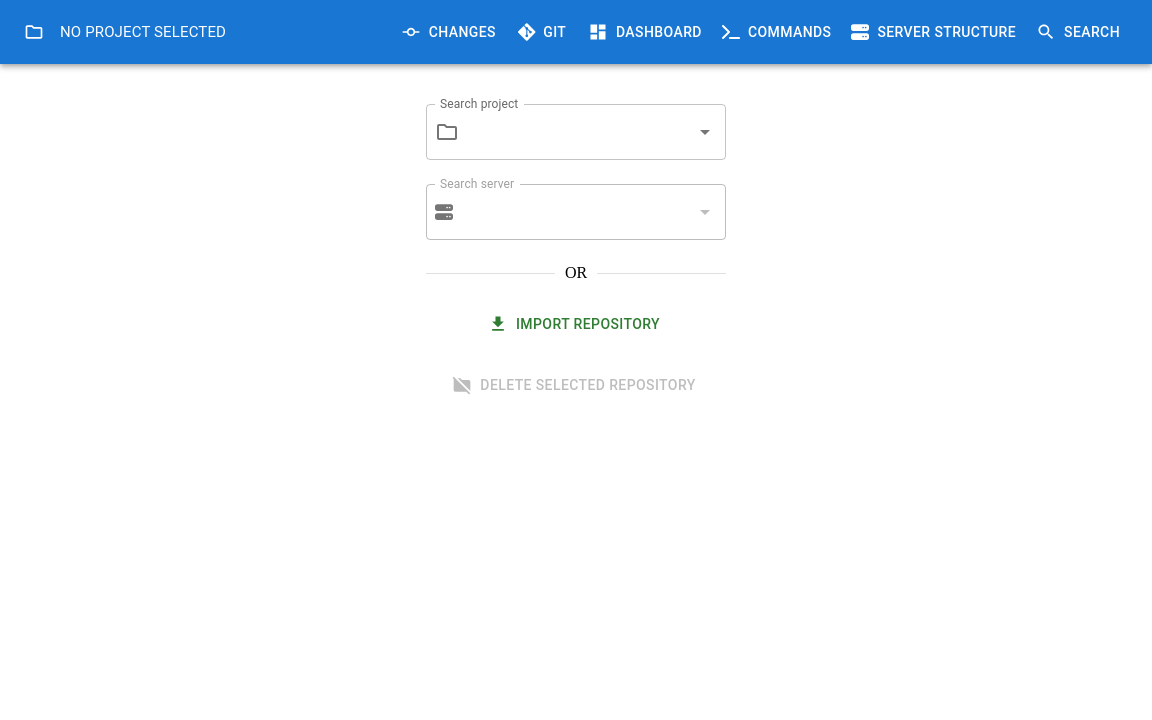
Home page › opens import repository modal
Click the button "Import repository". click: click(576, 325)
box: [426,306,726,343]
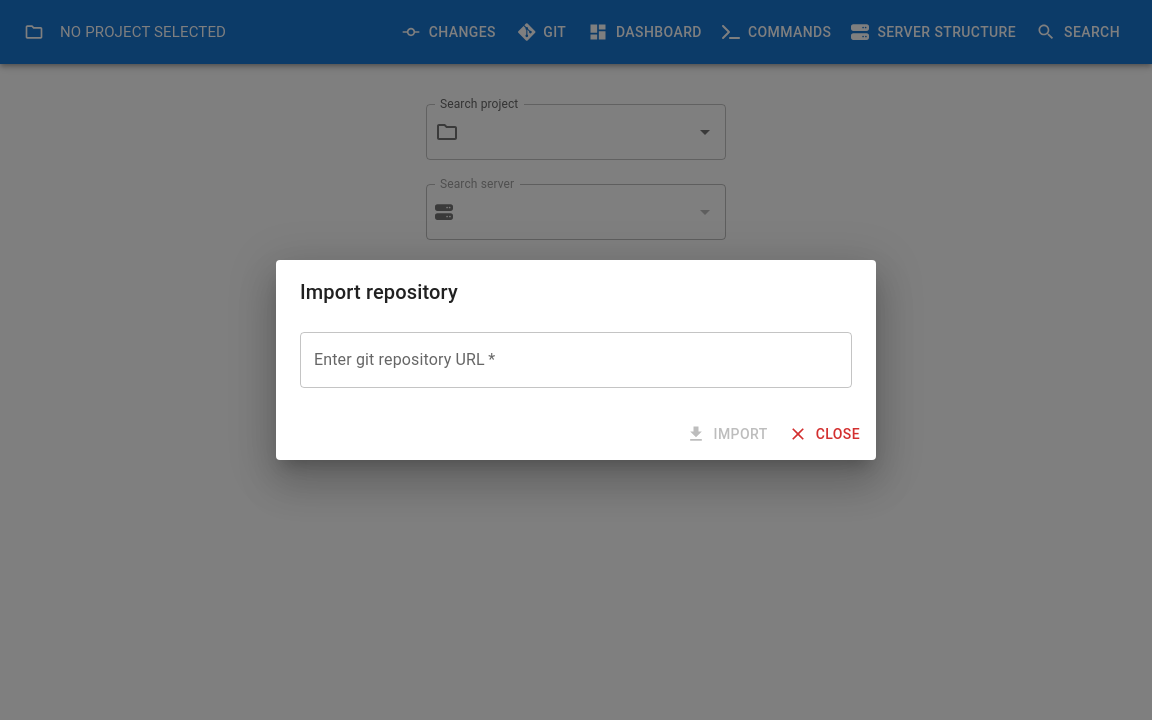
Check: the element showing "Import repository Enter git repository URL * Import Close" is shown
